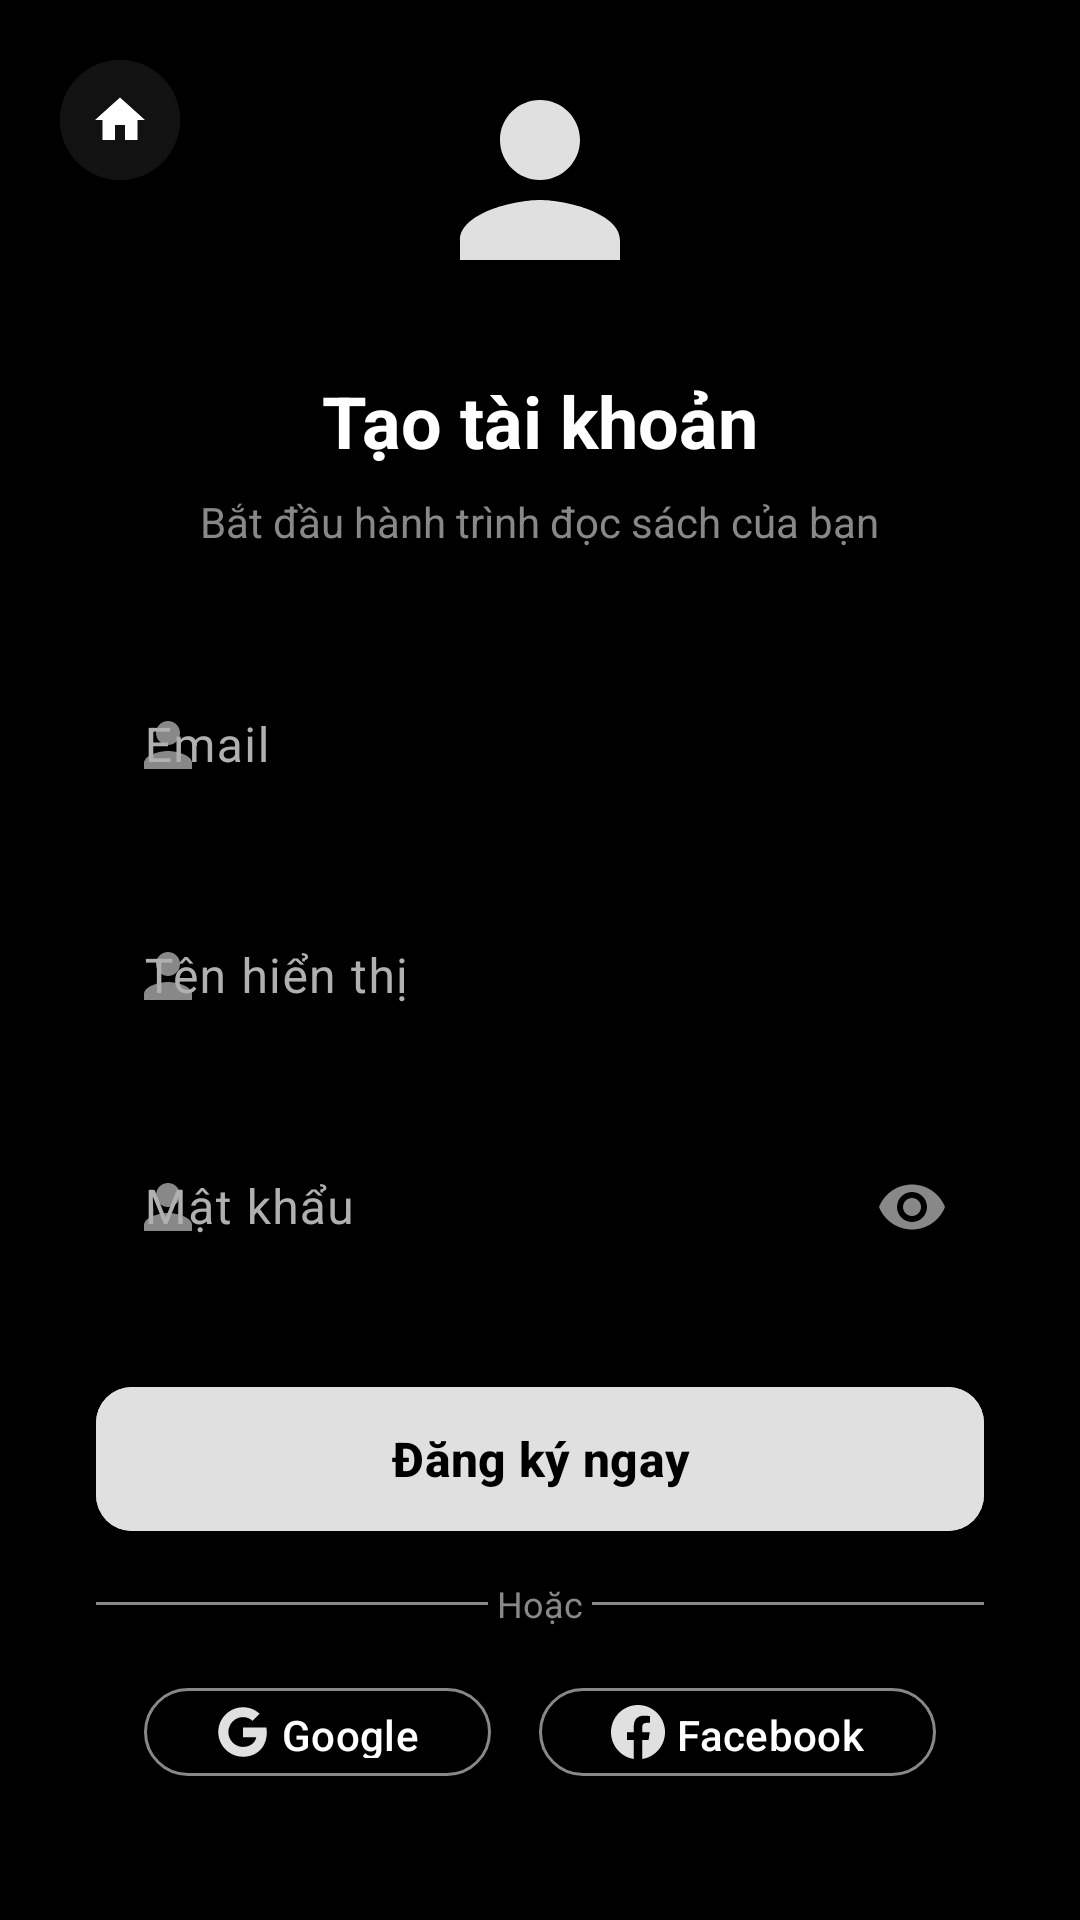

Screen size 1080px x 1920px. Icon name, then its box in pixels as {"x1": x1, "y1": y1, "x2": x2, "y2": y2}:
home: {"x1": 95, "y1": 97, "x2": 145, "y2": 140}
user: {"x1": 460, "y1": 100, "x2": 620, "y2": 260}
